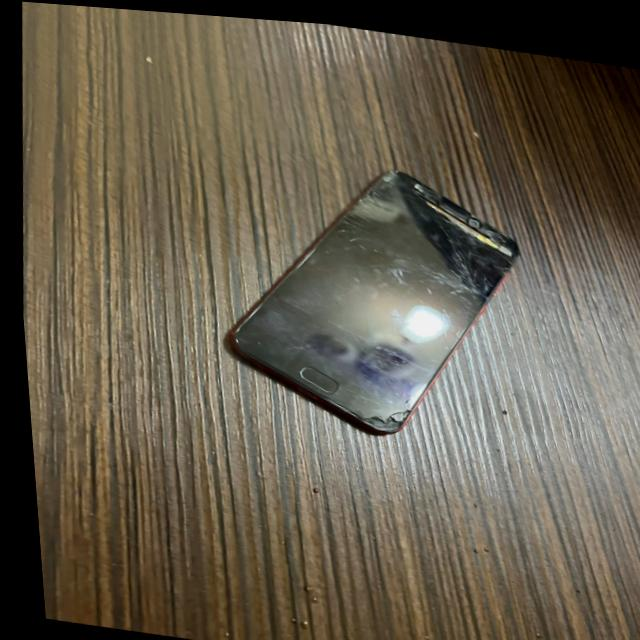Smartphone: (182, 145, 540, 463)
